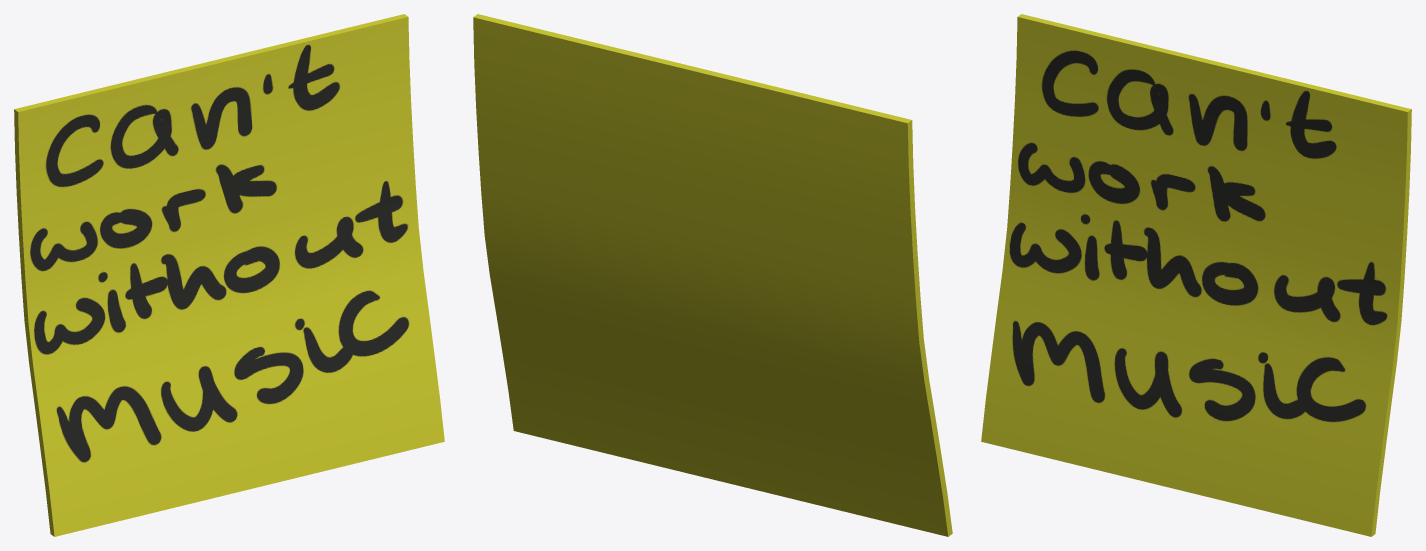
File: can't work without music.fbx
3 renders of one model, left to right at view 1: azimuth 30°, elevation 25°; view 2: azimuth 150°, elevation 25°; view 3: azimuth 330°, elevation 25°, orthographic. The views are drawn at different scales.
Visible parts, largest first — view 1: pPlane1; view 2: pPlane1; view 3: pPlane1.
Boxes of the visible parts, box(x1,y1,x2,y2) form: pPlane1: box(14, 14, 444, 536); pPlane1: box(473, 14, 952, 536); pPlane1: box(981, 14, 1411, 536).
Bounding box in the file's own units: 8.93 × 8.7 × 1.6.
